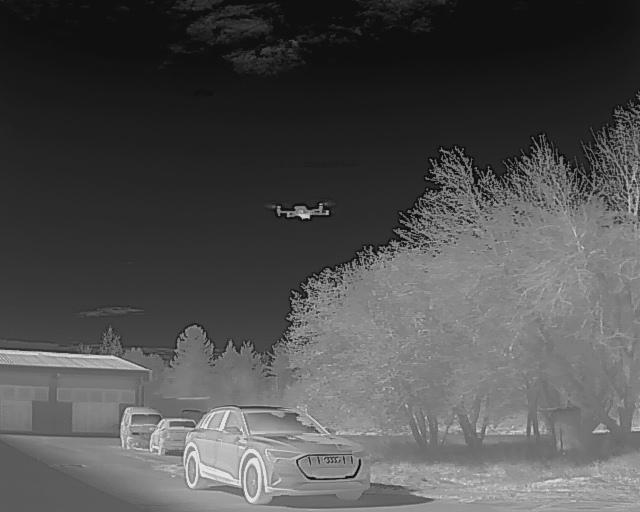drone: (260, 195, 341, 226)
